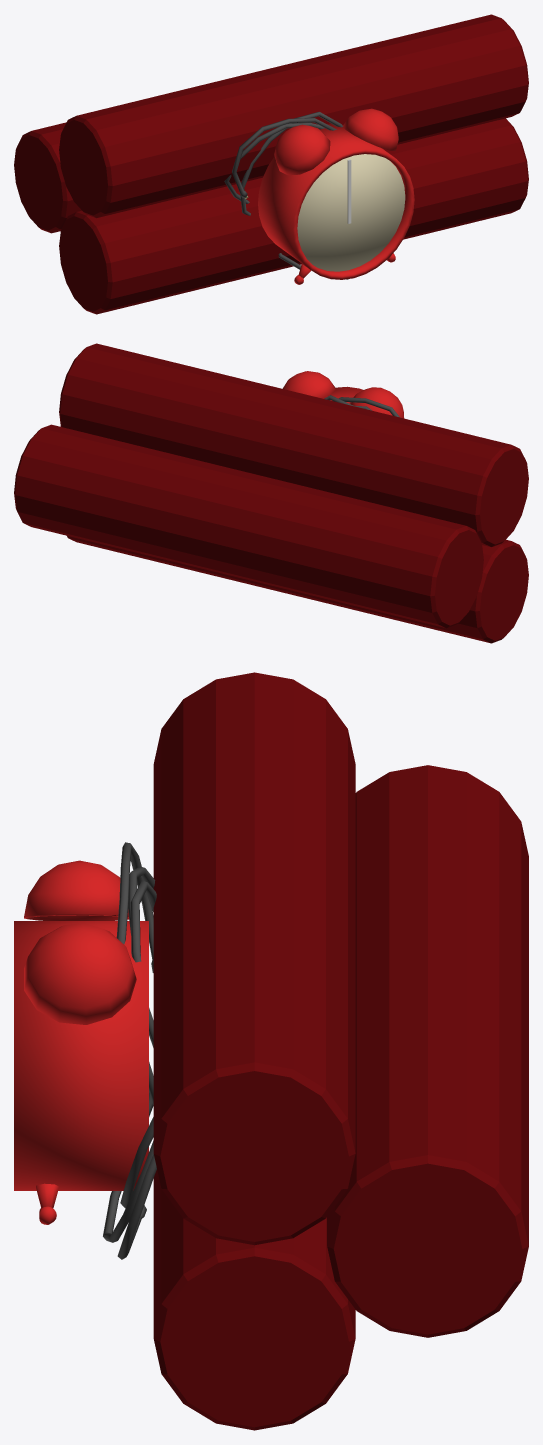
Rendered from item15_clockBomb.fbx.
3 views of the same model, one above another, from view 1: azimuth 30°, elevation 25°; view 2: azimuth 150°, elevation 25°; view 3: azimuth 270°, elevation 25° (orthographic). The views are drawn at different scales.
Visible parts, largest first — view 1: Cylinder.002, alarmClock; view 2: Cylinder.002, alarmClock; view 3: Cylinder.002, alarmClock.
Boxes of the visible parts, left/top/right/bottom form: Cylinder.002: left=14, top=14, right=528, bottom=314; alarmClock: left=258, top=108, right=414, bottom=284; Cylinder.002: left=14, top=343, right=528, bottom=643; alarmClock: left=282, top=371, right=404, bottom=418; Cylinder.002: left=103, top=672, right=528, bottom=1430; alarmClock: left=14, top=860, right=148, bottom=1224.
Bounding box in the file's own units: 95.7 × 41.56 × 52.69.
